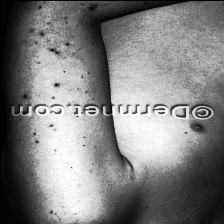Non-Cancerous Skin Condition: (15, 0, 85, 91), (11, 117, 93, 145)
